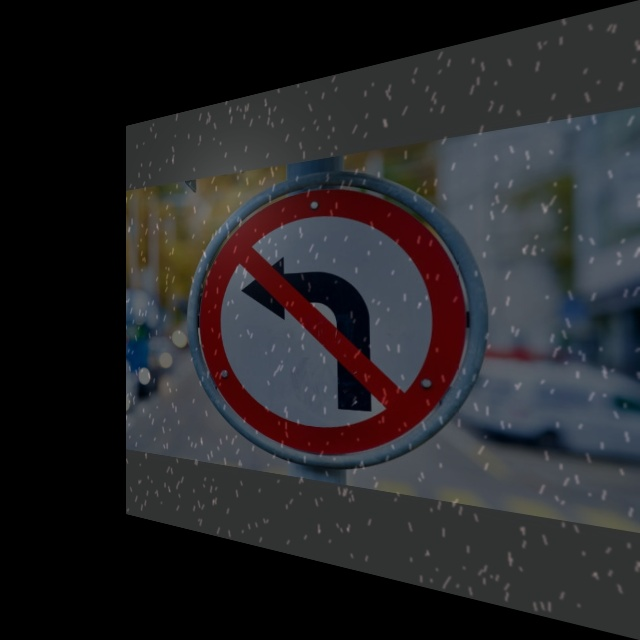Left_Turn_Prohibited: (188, 148, 487, 486)
